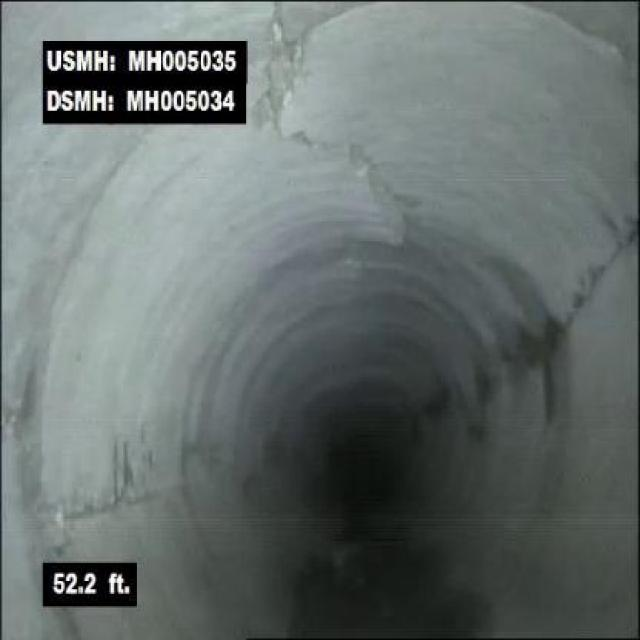Buckling: (248, 8, 329, 155), (338, 140, 422, 257)
Crack: (564, 168, 638, 328), (45, 486, 163, 532)
